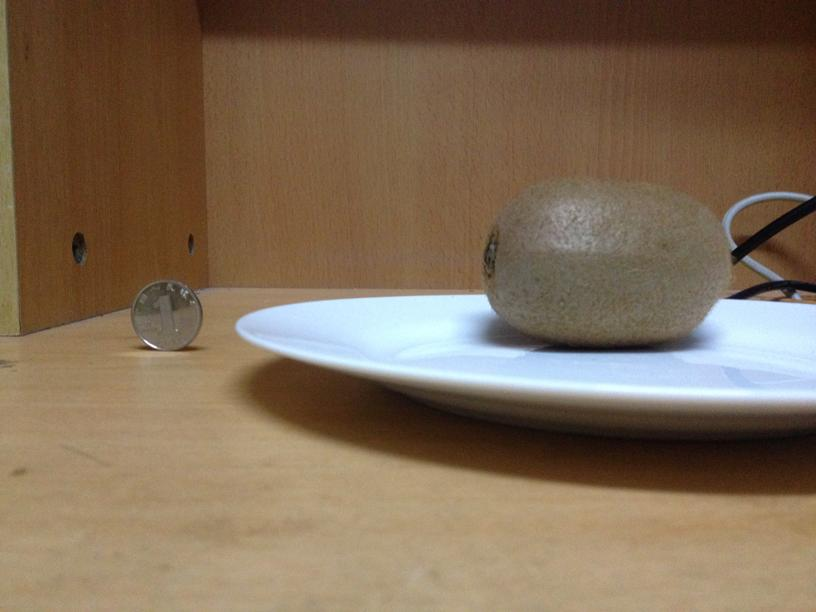coin: (129, 280, 203, 352)
qiwi: (479, 177, 725, 343)
